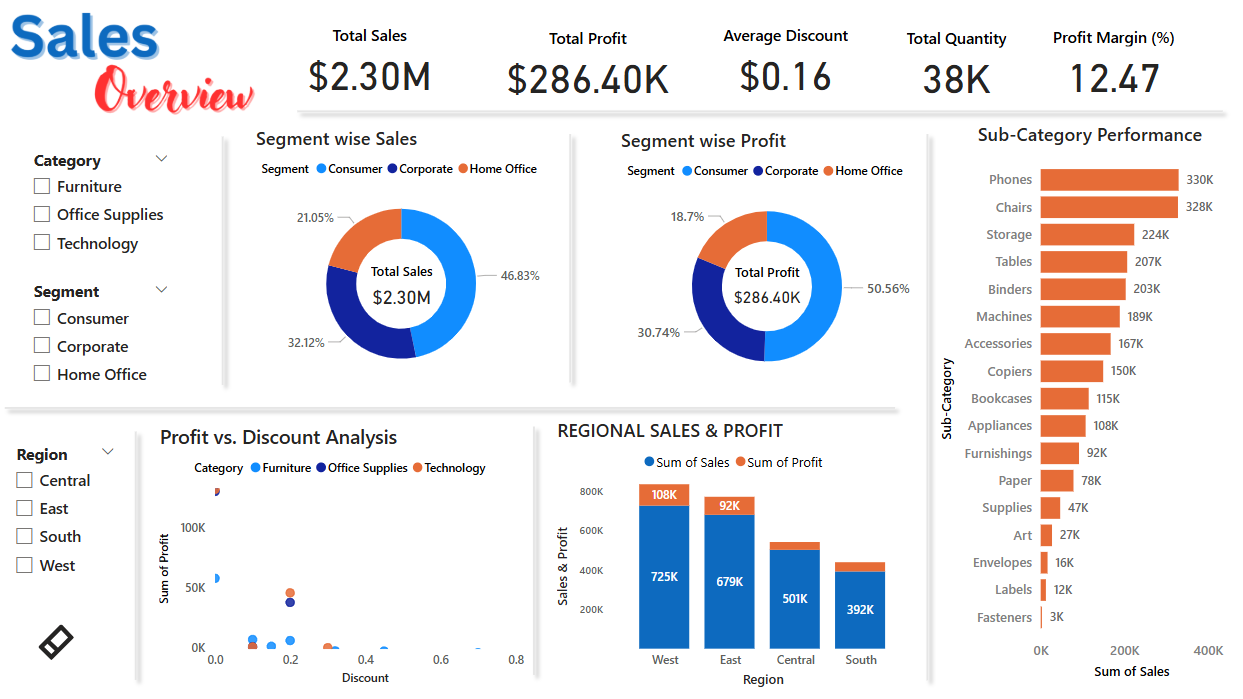

The dashboard page shown, as its layout file describes it:
{"tool":"powerbi","page":{"name":"Page 1","canvas":[1280,720],"ordinal":0},"visuals":[{"type":"cardVisual","fields":{"Data":["Sum(Superstore.Sales)"]},"box":[286.8,9.6,192.1,109.8],"z":0},{"type":"cardVisual","fields":{"Data":["Sum(Superstore.Profit)"]},"box":[478.9,11,255.2,109.8],"z":1000},{"type":"cardVisual","fields":{"Data":["Sum(Superstore.Quantity)"]},"box":[904.9,11.3,160.2,108.8],"z":2000},{"type":"cardVisual","fields":{"Data":["Avg(Superstore.Discount)"]},"box":[714.9,9.6,189.4,109.8],"z":3000},{"type":"cardVisual","fields":{"Data":["Superstore.Profit Margin (%)"]},"box":[1065.1,10,162.6,108.8],"z":4000},{"type":"columnChart","title":"REGIONAL SALES & PROFIT","fields":{"Category":["Superstore.Region"],"Y":["Sum(Superstore.Sales)","Sum(Superstore.Profit)"]},"box":[570,430,375.7,281.4],"z":5000},{"type":"shape","box":[299.6,100.3,967.3,30.6],"z":7000},{"type":"image","box":[5.7,1.4,272.9,130],"z":8000},{"type":"scatterChart","title":"Profit vs. Discount Analysis","fields":{"Y":["Sum(Superstore.Profit)"],"X":["Superstore.Discount"],"Series":["Superstore.Category"]},"box":[162.9,434.3,384.3,274.3],"z":9000},{"type":"barChart","title":"Sub-Category Performance","fields":{"Category":["Superstore.Sub-Category"],"Y":["Sum(Superstore.Sales)"]},"box":[964.3,125.7,315.7,577.1],"z":9001},{"type":"shape","box":[945.7,130,18.6,578.6],"z":9002},{"type":"shape","box":[0,404.3,931.4,31.4],"z":9003},{"type":"shape","box":[214.3,131.4,37.1,272.9],"z":9004},{"type":"shape","box":[570,130,37.1,272.9],"z":9005},{"type":"donutChart","title":"Segment wise Profit","fields":{"Category":["Superstore.Segment"],"Y":["Sum(Superstore.Sales)"]},"box":[635.7,131.4,310,272.9],"z":9006},{"type":"donutChart","title":"Segment wise Sales","fields":{"Category":["Superstore.Segment"],"Y":["Sum(Superstore.Profit)"]},"box":[261.4,130,308.6,272.9],"z":9007},{"type":"shape","box":[532.9,430,37.1,272.9],"z":9009},{"type":"cardVisual","fields":{"Data":["Sum(Superstore.Profit)"]},"box":[681.4,225.7,218.6,134.3],"z":9010},{"type":"cardVisual","fields":{"Data":["Sum(Superstore.Sales)"]},"box":[320,238.6,191.4,110],"z":9011},{"type":"slicer","fields":{"Values":["Superstore.Region"]},"box":[7.1,450,125.7,161.4],"z":9012},{"type":"slicer","fields":{"Values":["Superstore.Segment"]},"box":[25.7,282.9,162.9,120],"z":9013},{"type":"slicer","fields":{"Values":["Superstore.Category"]},"box":[25.7,148.6,162.9,152.9],"z":9014},{"type":"shape","box":[132.9,434.3,20,272.9],"z":9015},{"type":"actionButton","box":[40,634.3,44.3,50],"z":9016}]}

Visuals, with their boxes in screenshot pixels (x1, y1, x2, y2), scaled from the page's 1280x720 canvas onto the 1243x699 screenshot:
cardVisual - Sum(Superstore.Sales): box(279, 9, 465, 116)
cardVisual - Sum(Superstore.Profit): box(465, 11, 713, 117)
cardVisual - Sum(Superstore.Quantity): box(879, 11, 1034, 117)
cardVisual - Avg(Superstore.Discount): box(694, 9, 878, 116)
cardVisual - Superstore.Profit Margin (%): box(1034, 10, 1192, 115)
"REGIONAL SALES & PROFIT" columnChart: box(554, 417, 918, 691)
shape: box(291, 97, 1230, 127)
image: box(6, 1, 271, 128)
"Profit vs. Discount Analysis" scatterChart: box(158, 422, 531, 688)
"Sub-Category Performance" barChart: box(936, 122, 1242, 682)
shape: box(918, 126, 936, 688)
shape: box(0, 393, 904, 423)
shape: box(208, 128, 244, 393)
shape: box(554, 126, 590, 391)
"Segment wise Profit" donutChart: box(617, 128, 918, 393)
"Segment wise Sales" donutChart: box(254, 126, 554, 391)
shape: box(517, 417, 554, 682)
cardVisual - Sum(Superstore.Profit): box(662, 219, 874, 350)
cardVisual - Sum(Superstore.Sales): box(311, 232, 497, 338)
slicer - Superstore.Region: box(7, 437, 129, 594)
slicer - Superstore.Segment: box(25, 275, 183, 391)
slicer - Superstore.Category: box(25, 144, 183, 293)
shape: box(129, 422, 148, 687)
actionButton: box(39, 616, 82, 664)
